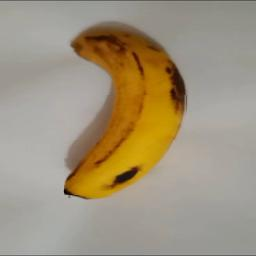Banana Semifresh: (64, 27, 188, 195)
